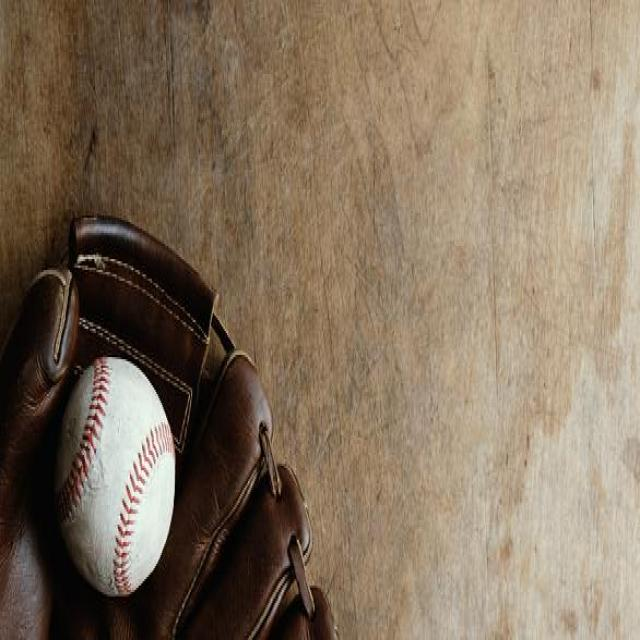baseball: (57, 355, 176, 596)
